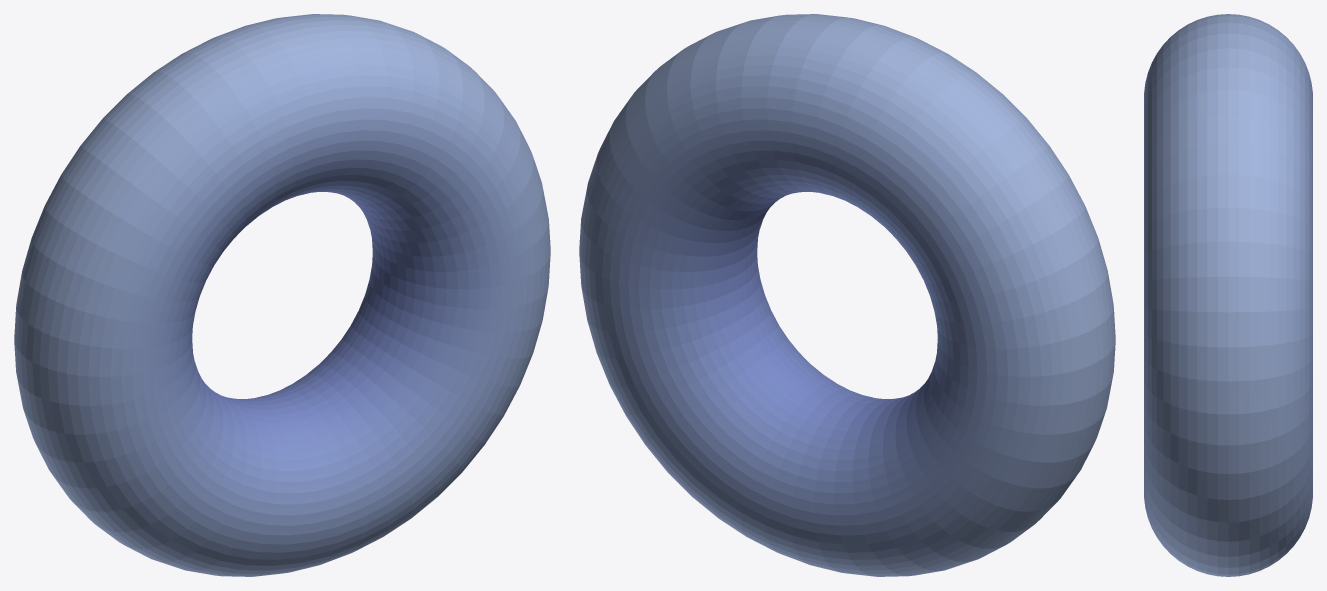
3 renders of one model, left to right at view 1: azimuth 30°, elevation 25°; view 2: azimuth 150°, elevation 25°; view 3: azimuth 270°, elevation 25°, orthographic. The views are drawn at different scales.
Parts seen in each view (by area): view 1: world; view 2: world; view 3: world.
Part boxes in pixels (x1=…): world: x1=14, y1=14, x2=550, y2=576; world: x1=579, y1=14, x2=1115, y2=576; world: x1=1144, y1=14, x2=1312, y2=576.
Size of the model in its own units: 19.07 by 19.03 by 5.72.
